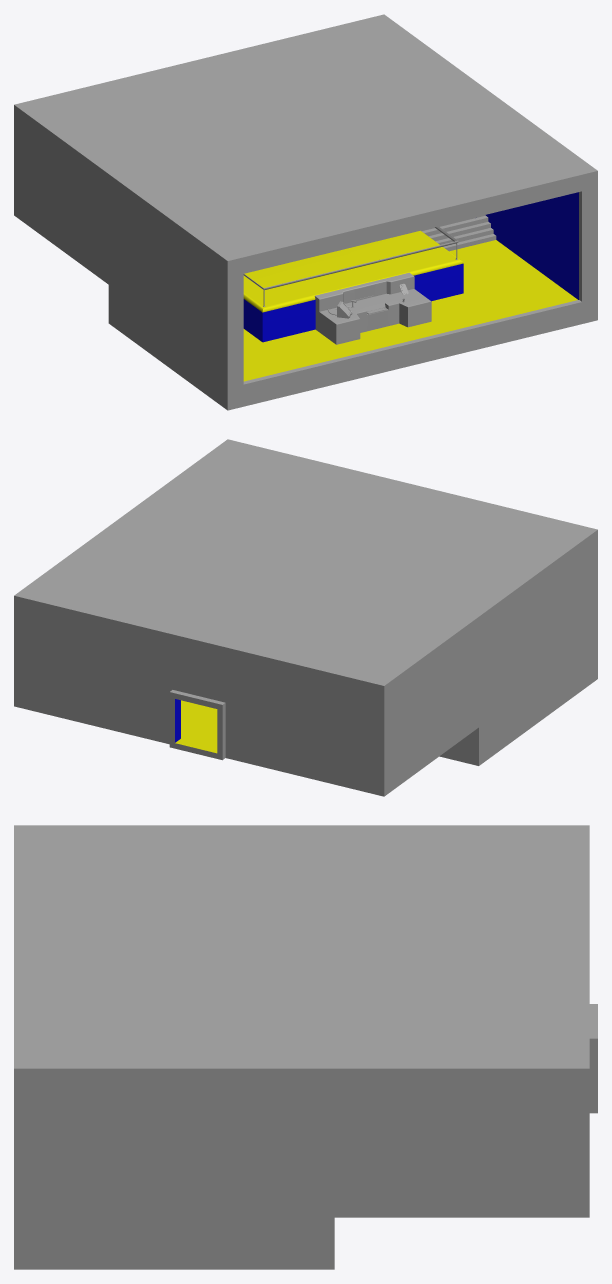
File: Control Room v2.fbx
3 views of the same model, one above another, from view 1: azimuth 30°, elevation 25°; view 2: azimuth 150°, elevation 25°; view 3: azimuth 270°, elevation 25° (orthographic). The views are drawn at different scales.
Parts seen in each view (by area): view 1: Control_Room_v1, EnergyDesk_V1, Stairs1, Railing; view 2: Control_Room_v1; view 3: Control_Room_v1.
Boxes of the visible parts, x1=… form: Control_Room_v1: x1=14, y1=14, x2=597, y2=410; EnergyDesk_V1: x1=314, y1=272, x2=431, y2=344; Stairs1: x1=422, y1=215, x2=496, y2=251; Railing: x1=243, y1=226, x2=458, y2=289; Control_Room_v1: x1=14, y1=439, x2=597, y2=796; Control_Room_v1: x1=14, y1=825, x2=597, y2=1269.
Size of what is drawn, in the model's own units: 0.35 by 0.135 by 0.355.
